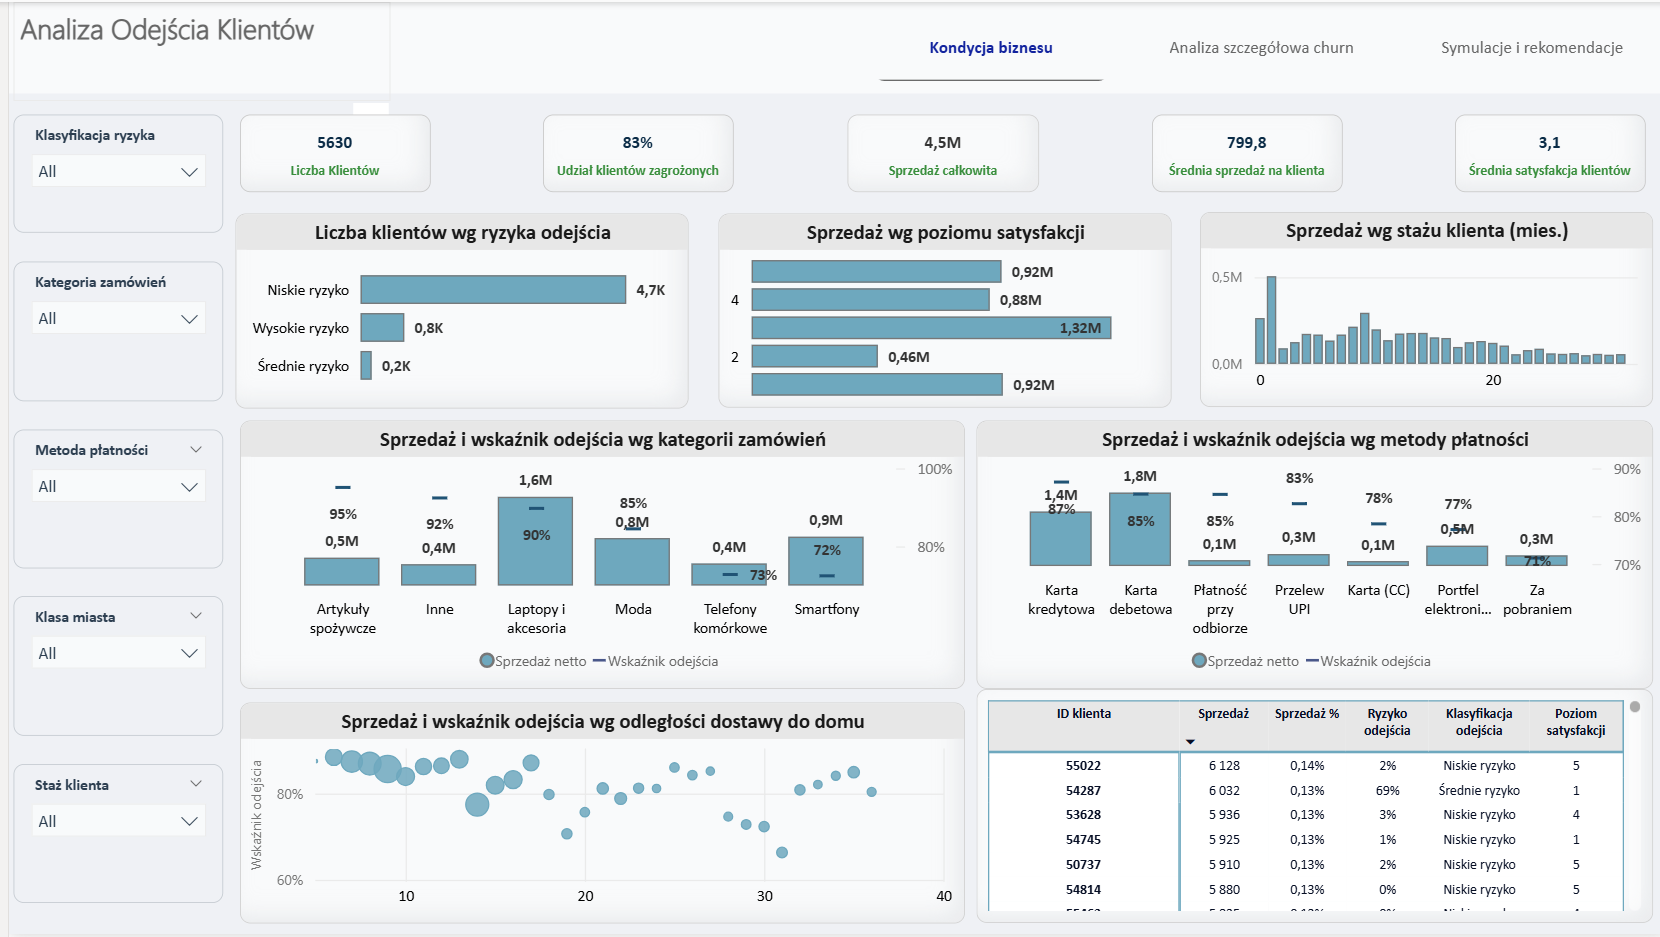

The dashboard page shown, as its layout file describes it:
{"tool":"powerbi","page":{"name":"Kondycja biznesu","canvas":[1280,720],"ordinal":0},"visuals":[{"type":"shape","box":[0,0,1279.2,70.7],"z":0},{"type":"textbox","box":[3.5,0,290.8,76.5],"z":1000},{"type":"card","fields":{"Values":["Measure_table.Liczba Klientów"]},"box":[178.4,86.9,147.2,60.3],"z":2000},{"type":"card","fields":{"Values":["Measure_table.Sprzedaż całkowita"]},"box":[647.2,86.9,148.3,60.3],"z":3000},{"type":"card","fields":{"Values":["Measure_table.Średnia sprzedaż na klienta"]},"box":[882.7,86.9,147.2,60.3],"z":4000},{"type":"card","fields":{"Values":["Measure_table.Wskaźnik odejścia"]},"box":[412.8,86.9,147.2,60.3],"z":5000},{"type":"card","fields":{"Values":["Measure_table.Średnia satysfakcja klientów"]},"box":[1117,86.9,147.2,60.3],"z":6000},{"type":"lineStackedColumnComboChart","title":"Sprzedaż i wskaźnik odejścia wg metody płatności","fields":{"Category":["Data_set.PreferredPaymentMode_PL"],"Y2":["Measure_table.Wskaźnik odejścia"],"Y":["Sum(Data_set.NetSales)"]},"box":[747.4,323.3,522.6,207.4],"z":7000},{"type":"lineStackedColumnComboChart","title":"Sprzedaż i wskaźnik odejścia wg kategorii zamówień","fields":{"Y2":["Measure_table.Wskaźnik odejścia"],"Y":["Sum(Data_set.NetSales)"],"Category":["Data_set.PreferedOrderCat_PL"]},"box":[178.4,323.3,559.7,207.4],"z":8000},{"type":"scatterChart","title":"Sprzedaż i wskaźnik odejścia wg odległości dostawy do domu","fields":{"X":["Data_set.WarehouseToHome"],"Y":["Measure_table.Wskaźnik odejścia"],"Size":["Sum(Data_set.NetSales)"]},"box":[178.4,541.1,559.7,170.3],"z":9000},{"type":"barChart","title":"Sprzedaż wg poziomu satysfakcji","fields":{"Category":["Data_set.SatisfactionScore"],"Y":["Sum(Data_set.NetSales)"]},"box":[548,163,350,150],"z":10000},{"type":"barChart","title":"Liczba klientów wg ryzyka odejścia","fields":{"Y":["CountNonNull(All_Customers.CustomerID)"],"Category":["All_Customers.Churn_risk_PL"]},"box":[175,163.4,349.9,150.6],"z":11000},{"type":"clusteredColumnChart","title":"Sprzedaż wg stażu klienta (mies.)","fields":{"Category":["Data_set.Tenure"],"Y":["Sum(Data_set.NetSales)"]},"box":[920,162.1,349.9,150.6],"z":12000},{"type":"pivotTable","fields":{"Values":["Sum(Data_set.NetSales)","Divide(Sum(Data_set.NetSales), ScopedEval(Sum(Data_set.NetSales), []))","Measure_table.Ryzyko odejścia","Min(All_Customers.Churn_risk_PL)","Avg(Data_set.SatisfactionScore)"],"Rows":["Data_set.CustomerID"]},"box":[747.4,530.7,522.6,180.8],"z":13000},{"type":"pageNavigator","box":[659.8,0,619.6,70.4],"z":14000},{"type":"slicer","fields":{"Values":["Data_set.PreferedOrderCat_PL"]},"box":[3,200,162,108],"z":15000},{"type":"slicer","fields":{"Values":["Data_set.PreferredPaymentMode_PL"]},"box":[3,330,162,107],"z":16000},{"type":"slicer","fields":{"Values":["Data_set.CityTier"]},"box":[3,459,162,108],"z":17000},{"type":"slicer","fields":{"Values":["Data_set.Tenure"]},"box":[3,589,162,107],"z":18000},{"type":"slicer","fields":{"Values":["All_Customers.Churn_risk_PL"]},"box":[3,87,162,91],"z":19000}]}

Visuals, with their boxes in screenshot pixels (x1, y1, x2, y2), scaled from the page's 1280x720 canvas onto the 1660x937 screenshot:
shape: crop(0, 0, 1659, 92)
textbox: crop(5, 0, 382, 100)
card - Measure_table.Liczba Klientów: crop(231, 113, 422, 192)
card - Measure_table.Sprzedaż całkowita: crop(839, 113, 1032, 192)
card - Measure_table.Średnia sprzedaż na klienta: crop(1145, 113, 1336, 192)
card - Measure_table.Wskaźnik odejścia: crop(535, 113, 726, 192)
card - Measure_table.Średnia satysfakcja klientów: crop(1449, 113, 1640, 192)
"Sprzedaż i wskaźnik odejścia wg metody płatności" lineStackedColumnComboChart: crop(969, 421, 1647, 691)
"Sprzedaż i wskaźnik odejścia wg kategorii zamówień" lineStackedColumnComboChart: crop(231, 421, 957, 691)
"Sprzedaż i wskaźnik odejścia wg odległości dostawy do domu" scatterChart: crop(231, 704, 957, 926)
"Sprzedaż wg poziomu satysfakcji" barChart: crop(711, 212, 1165, 407)
"Liczba klientów wg ryzyka odejścia" barChart: crop(227, 213, 681, 409)
"Sprzedaż wg stażu klienta (mies.)" clusteredColumnChart: crop(1193, 211, 1647, 407)
pivotTable - Sum(Data_set.NetSales) x Divide(Sum(Data_set.NetSales), ScopedEval(Sum(Data_set.NetSales), [])): crop(969, 691, 1647, 926)
pageNavigator: crop(856, 0, 1659, 92)
slicer - Data_set.PreferedOrderCat_PL: crop(4, 260, 214, 401)
slicer - Data_set.PreferredPaymentMode_PL: crop(4, 429, 214, 569)
slicer - Data_set.CityTier: crop(4, 597, 214, 738)
slicer - Data_set.Tenure: crop(4, 767, 214, 906)
slicer - All_Customers.Churn_risk_PL: crop(4, 113, 214, 232)
